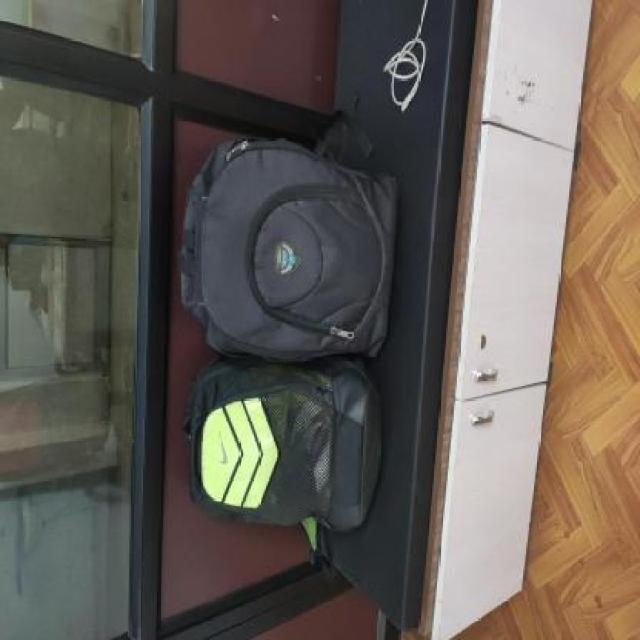backpack: (174, 129, 403, 363), (182, 357, 386, 537)
